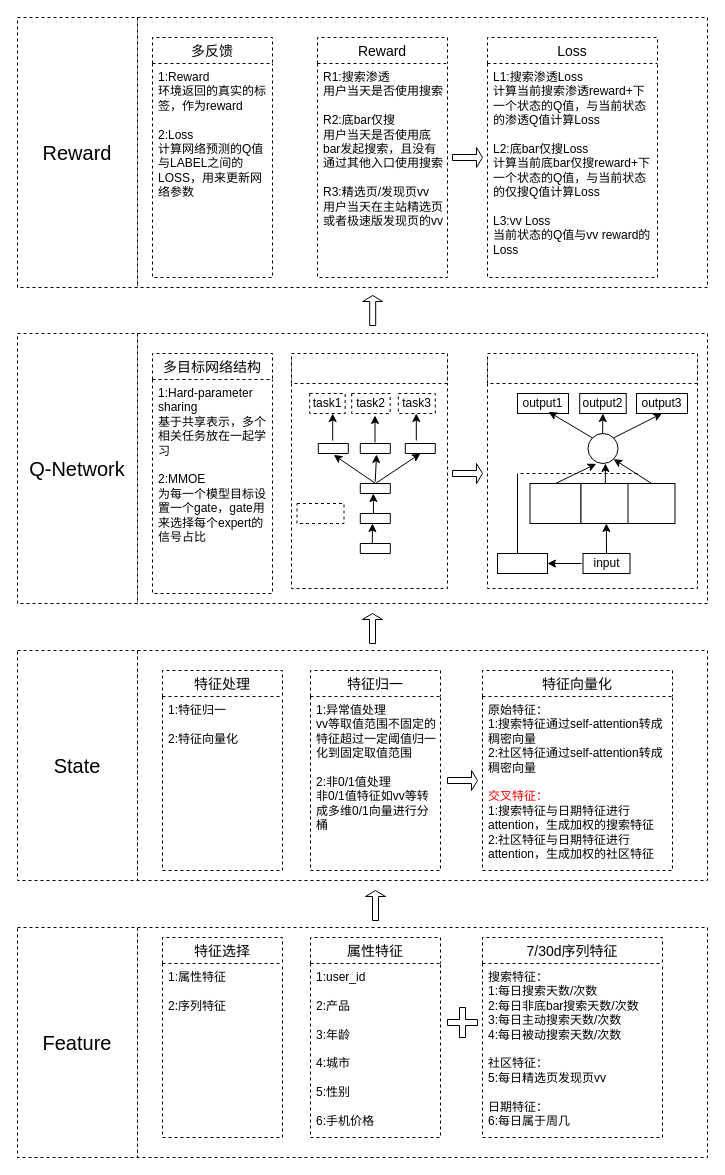
The diagram is 725 pixels wide and 1175 high, and some of its shapes have lost their labels. Each missing label, with the centre of its shape:
Expert1: the point at 555,503
Expert2: the point at 605,503
Expert3: the point at 651,503
gate: the point at 522,563
Hard-parameter sharing: the point at 369,368
MMOE: the point at 592,368
shared: the point at 320,513
